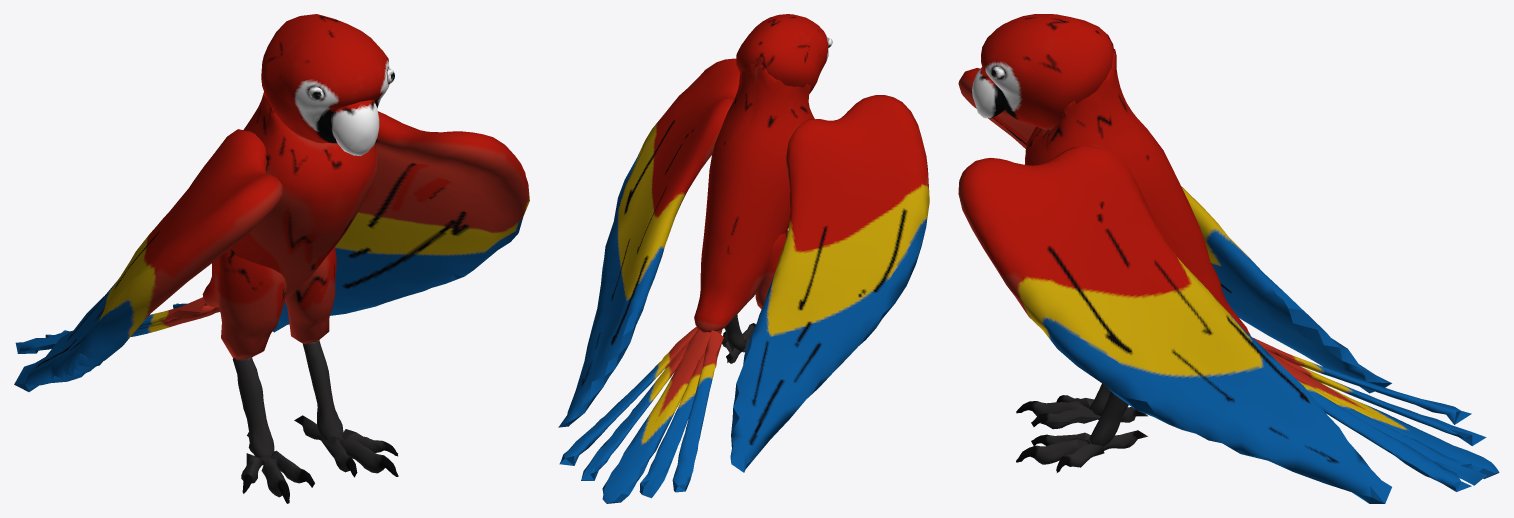
File: parrot.FBX
3 renders of one model, left to right at view 1: azimuth 30°, elevation 25°; view 2: azimuth 150°, elevation 25°; view 3: azimuth 270°, elevation 25°, orthographic. The views are drawn at different scales.
Visible parts, largest first — view 1: parrot; view 2: parrot; view 3: parrot.
Boxes of the visible parts, x1,y1,x2,y2 form: parrot: (14,14,529,503); parrot: (558,14,929,503); parrot: (958,14,1499,503).
Bounding box in the file's own units: 3.28 × 3.79 × 4.08.
Materials: 1 (1 with a texture image).
